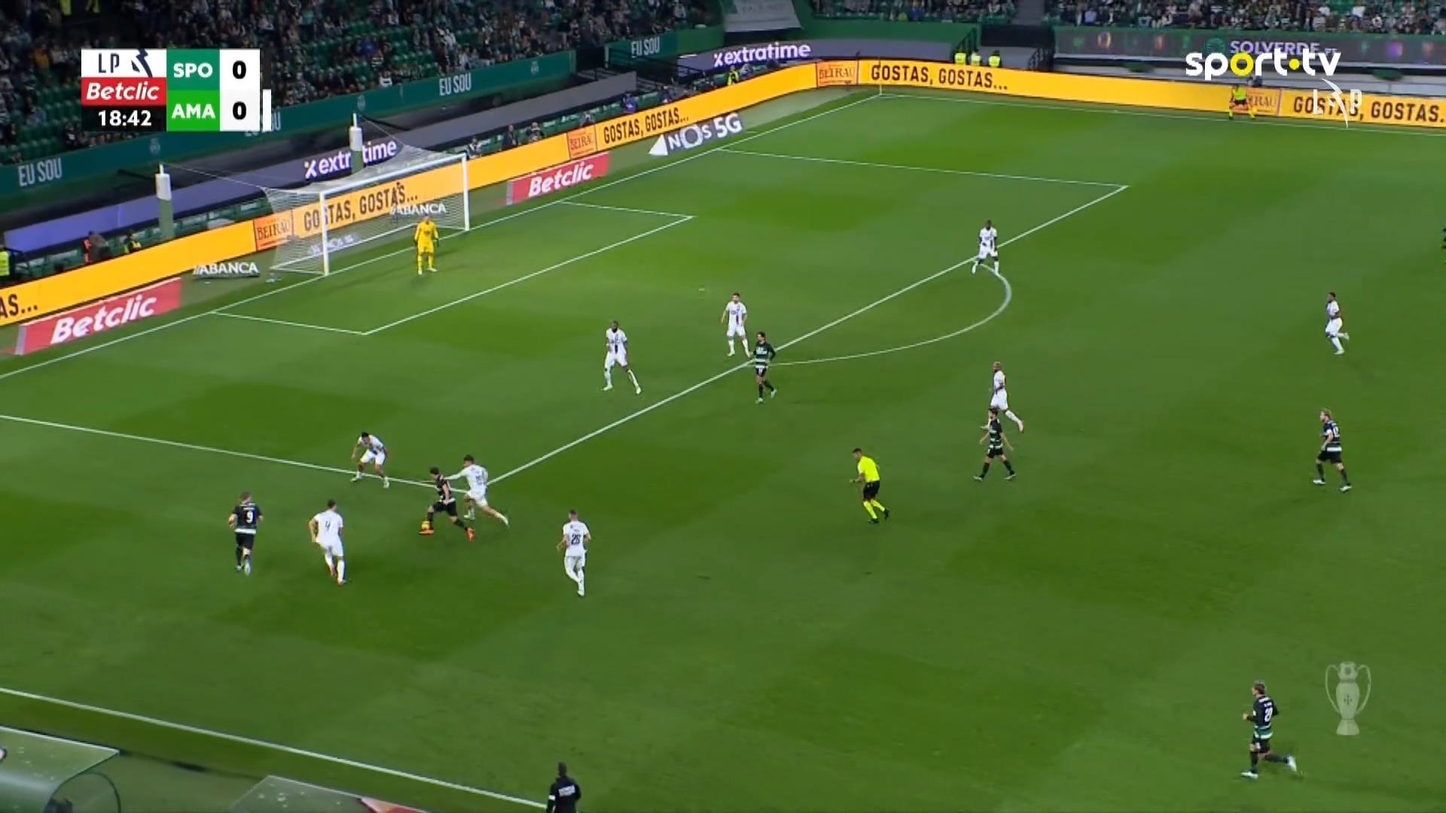ball: (421, 521, 430, 530)
goalkeeper: (413, 213, 440, 275)
player: (1240, 679, 1298, 779), (443, 454, 509, 530), (418, 465, 474, 541), (307, 498, 349, 585), (972, 406, 1017, 482), (1311, 408, 1352, 491), (554, 508, 592, 597), (600, 318, 642, 394), (227, 490, 264, 576), (981, 360, 1023, 432), (349, 431, 390, 489), (719, 291, 751, 358), (749, 330, 776, 403), (970, 219, 1000, 276), (1323, 290, 1348, 355)
referee: (848, 446, 889, 524), (545, 761, 581, 811), (1227, 83, 1255, 120)
